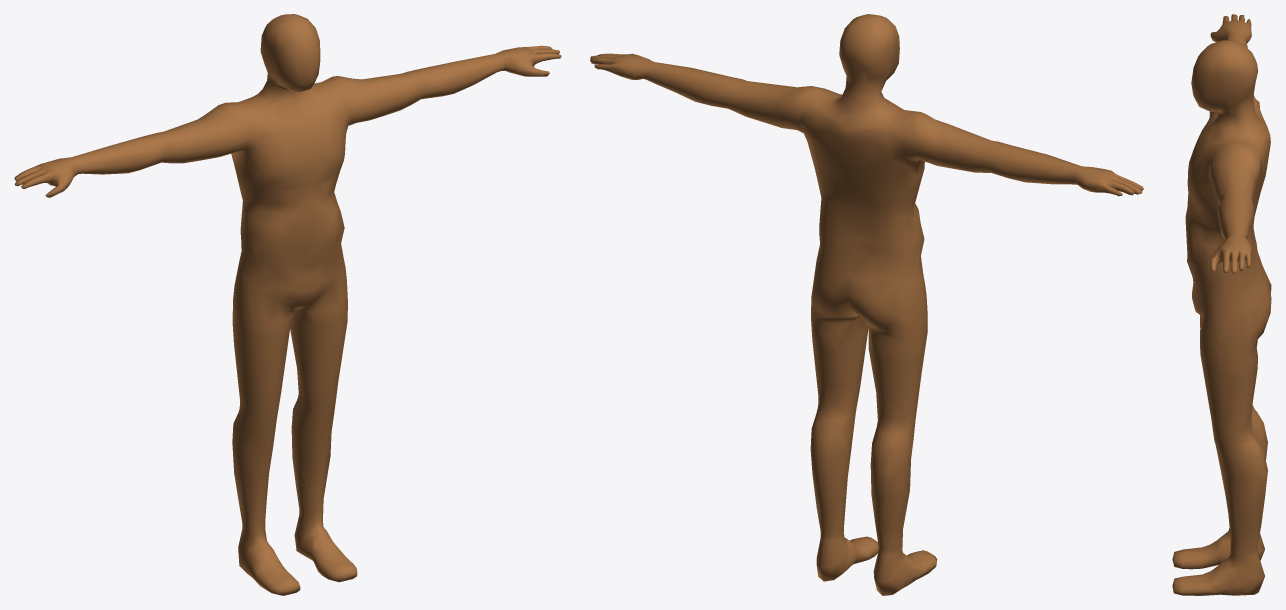
File: BrownCharacter.fbx
3 views of the same model, side by side, from view 1: azimuth 30°, elevation 25°; view 2: azimuth 150°, elevation 25°; view 3: azimuth 270°, elevation 25° (orthographic). The views are drawn at different scales.
Visible parts, largest first — view 1: Humanoid1:Mesh; view 2: Humanoid1:Mesh; view 3: Humanoid1:Mesh.
Boxes of the visible parts, x1=… form: Humanoid1:Mesh: x1=14, y1=14, x2=561, y2=595; Humanoid1:Mesh: x1=590, y1=14, x2=1143, y2=595; Humanoid1:Mesh: x1=1172, y1=14, x2=1271, y2=595.
Size of the model in its own units: 180 by 175 by 29.29.
